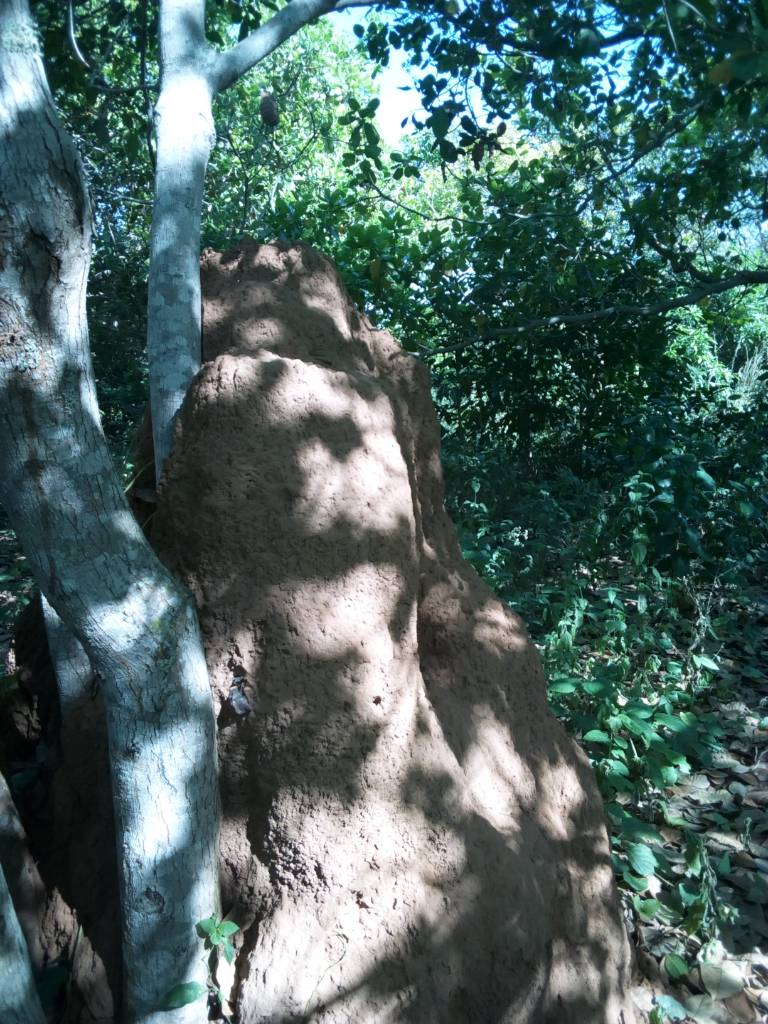Termites: (195, 407, 476, 1019), (215, 244, 408, 403), (502, 689, 588, 1010)
